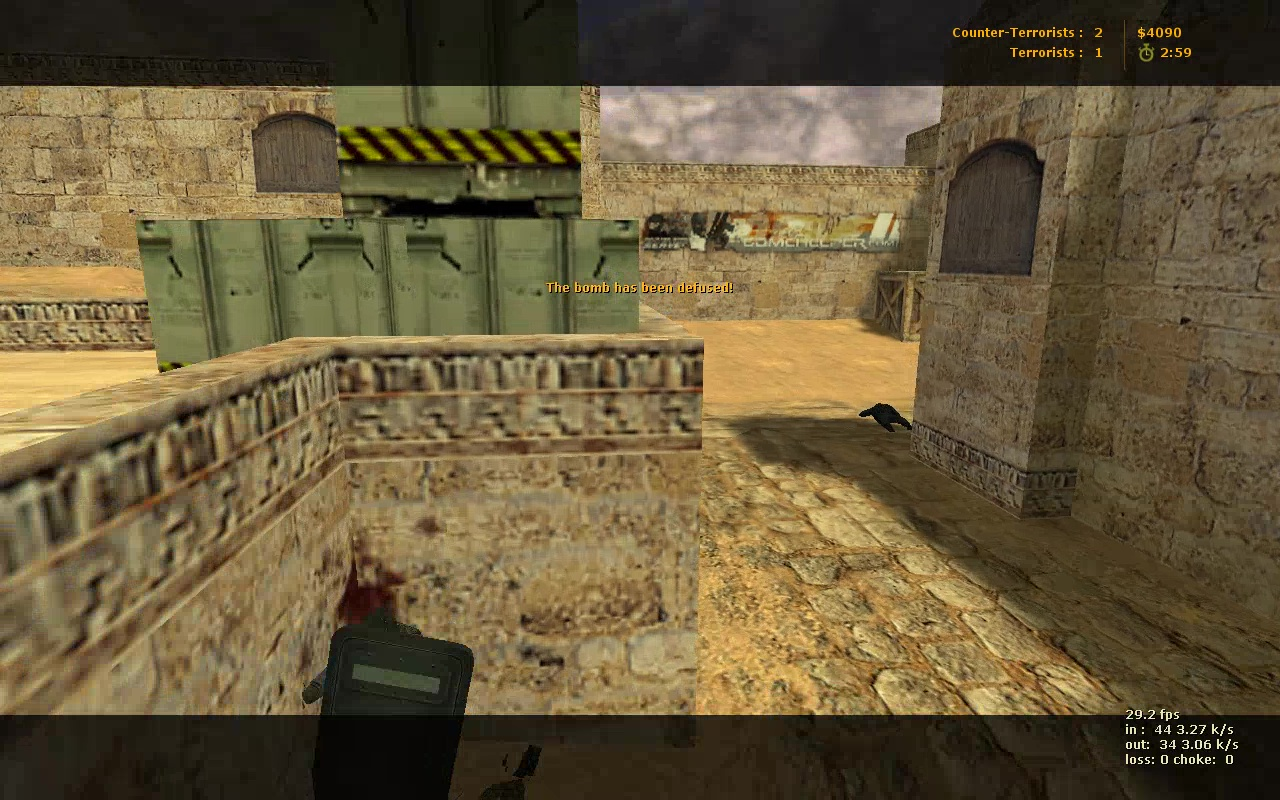dead: (861, 400, 913, 434)
